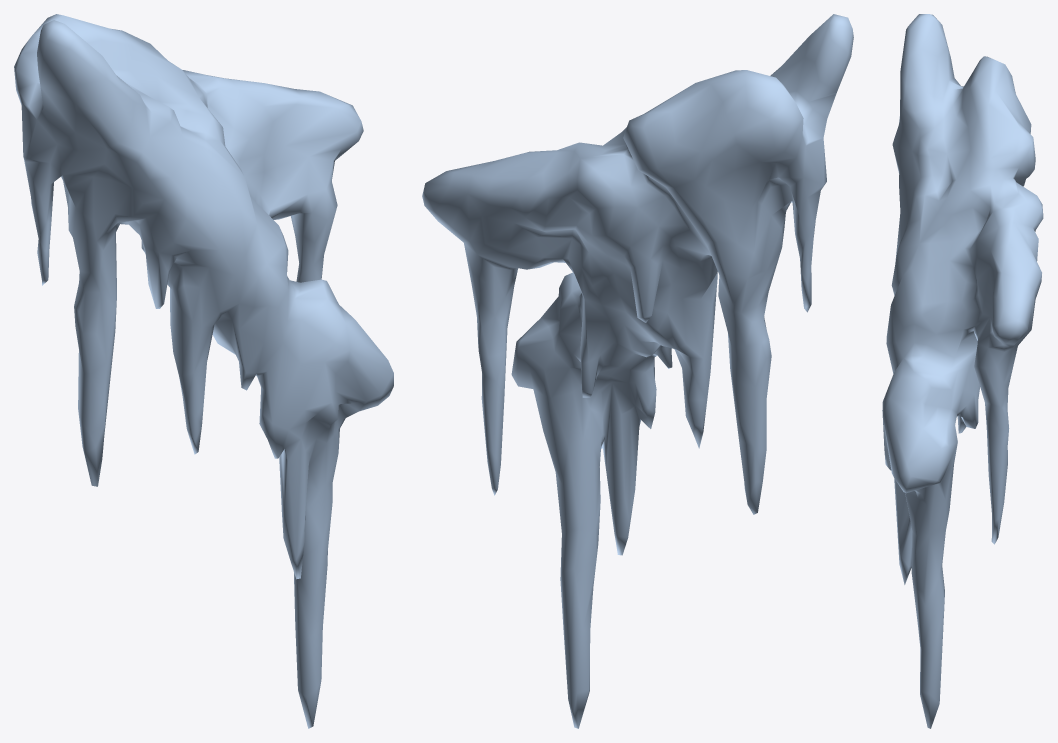
The model's file is IciclesSmall_Cables_02.fbx.
The picture shows the model from 3 angles, left to right: view 1: azimuth 30°, elevation 25°; view 2: azimuth 150°, elevation 25°; view 3: azimuth 270°, elevation 25°; orthographic projection. The views are drawn at different scales.
Parts seen in each view (by area): view 1: IciclesSmall_Cables_02.001; view 2: IciclesSmall_Cables_02.001; view 3: IciclesSmall_Cables_02.001.
Boxes of the visible parts, bbox=[...] form: IciclesSmall_Cables_02.001: bbox=[14, 14, 393, 728]; IciclesSmall_Cables_02.001: bbox=[422, 14, 853, 728]; IciclesSmall_Cables_02.001: bbox=[882, 14, 1043, 728].
Size of the model in its own units: 0.4359 by 0.8633 by 0.2048.
